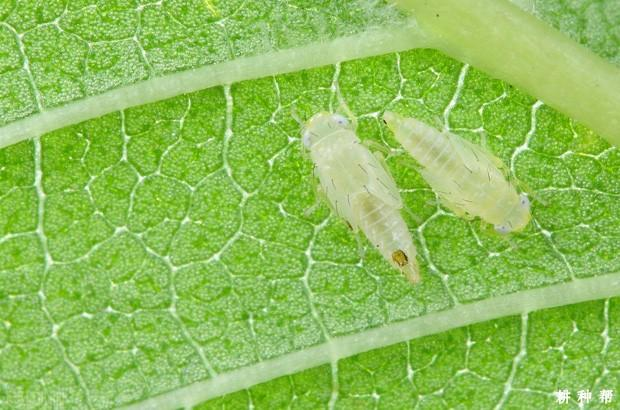Cicadellidae: (295, 111, 422, 284), (378, 107, 533, 231)
